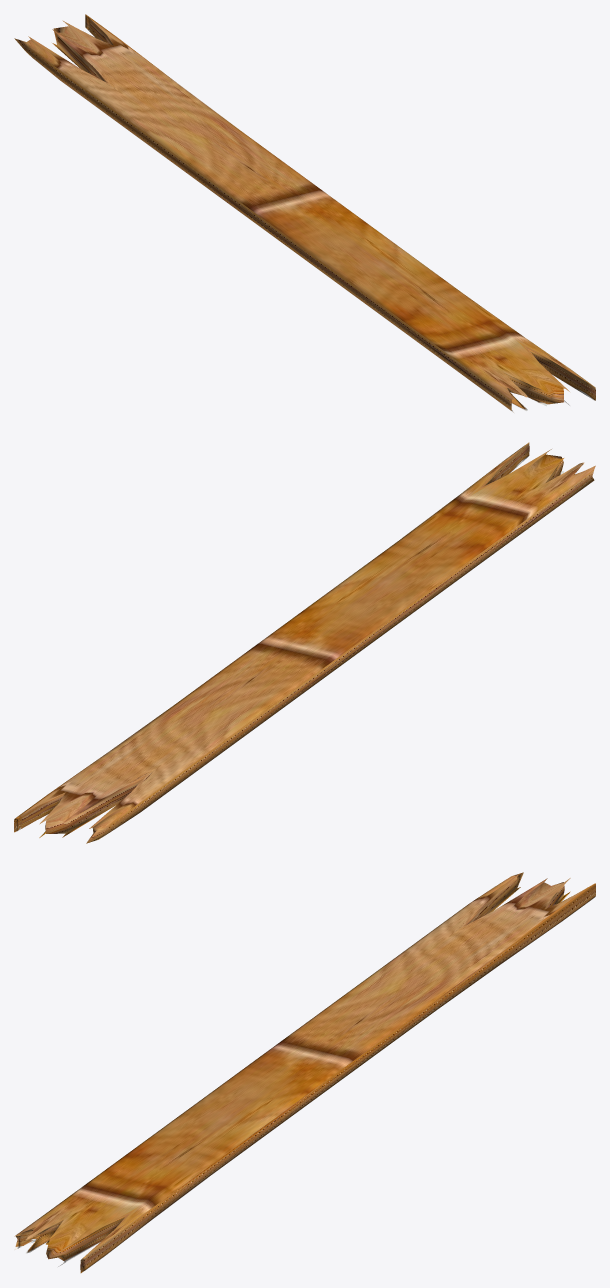
Rendered from smooth long plank.fbx.
3 views of the same model, one above another, from view 1: azimuth 30°, elevation 25°; view 2: azimuth 150°, elevation 25°; view 3: azimuth 330°, elevation 25° (orthographic).
Parts seen in each view (by area): view 1: pCube35; view 2: pCube35; view 3: pCube35.
Part boxes in pixels (bbox=[...]): pCube35: bbox=[14, 14, 595, 413]; pCube35: bbox=[14, 442, 595, 843]; pCube35: bbox=[14, 872, 595, 1273].
Size of the model in its own units: 0.9984 by 0.1733 by 11.62.
Materials: 1 (1 with a texture image).
